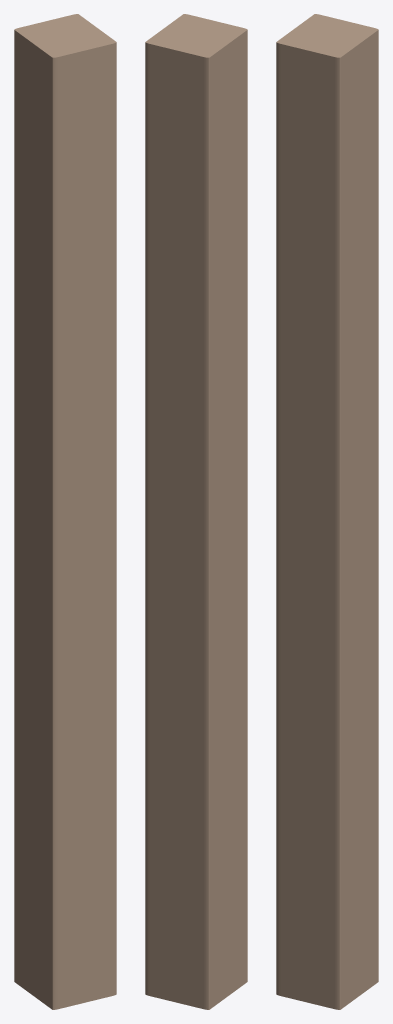
The model's file is kiris.fbx.
The picture shows the model from 3 angles, left to right: view 1: azimuth 30°, elevation 25°; view 2: azimuth 150°, elevation 25°; view 3: azimuth 330°, elevation 25°; orthographic projection.
Parts seen in each view (by area): view 1: kiris; view 2: kiris; view 3: kiris.
Boxes of the visible parts, <box> form: kiris: <box>14,14,116,1009</box>; kiris: <box>145,14,247,1009</box>; kiris: <box>276,14,378,1009</box>.
Bounding box in the file's own units: 18.64 × 264 × 20.
